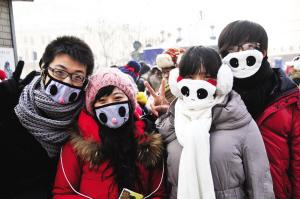OK: (44, 62, 87, 105), (94, 89, 133, 128), (227, 41, 263, 76), (183, 72, 217, 106)
